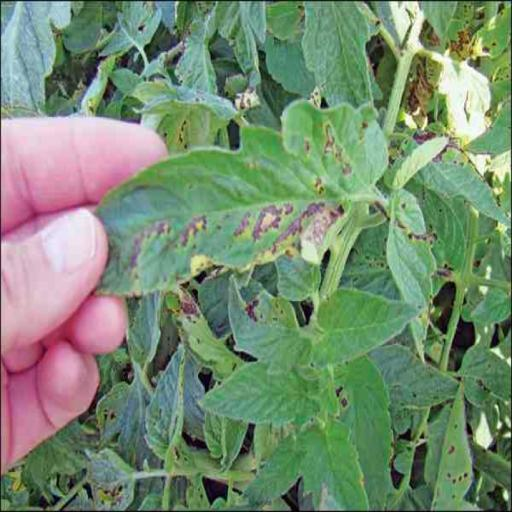Early Blight: (101, 96, 402, 293)
Healthy: (308, 291, 429, 367), (201, 370, 305, 423), (246, 435, 311, 507)
